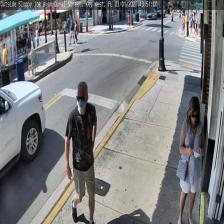person: (64, 81, 96, 224), (176, 96, 205, 224)
